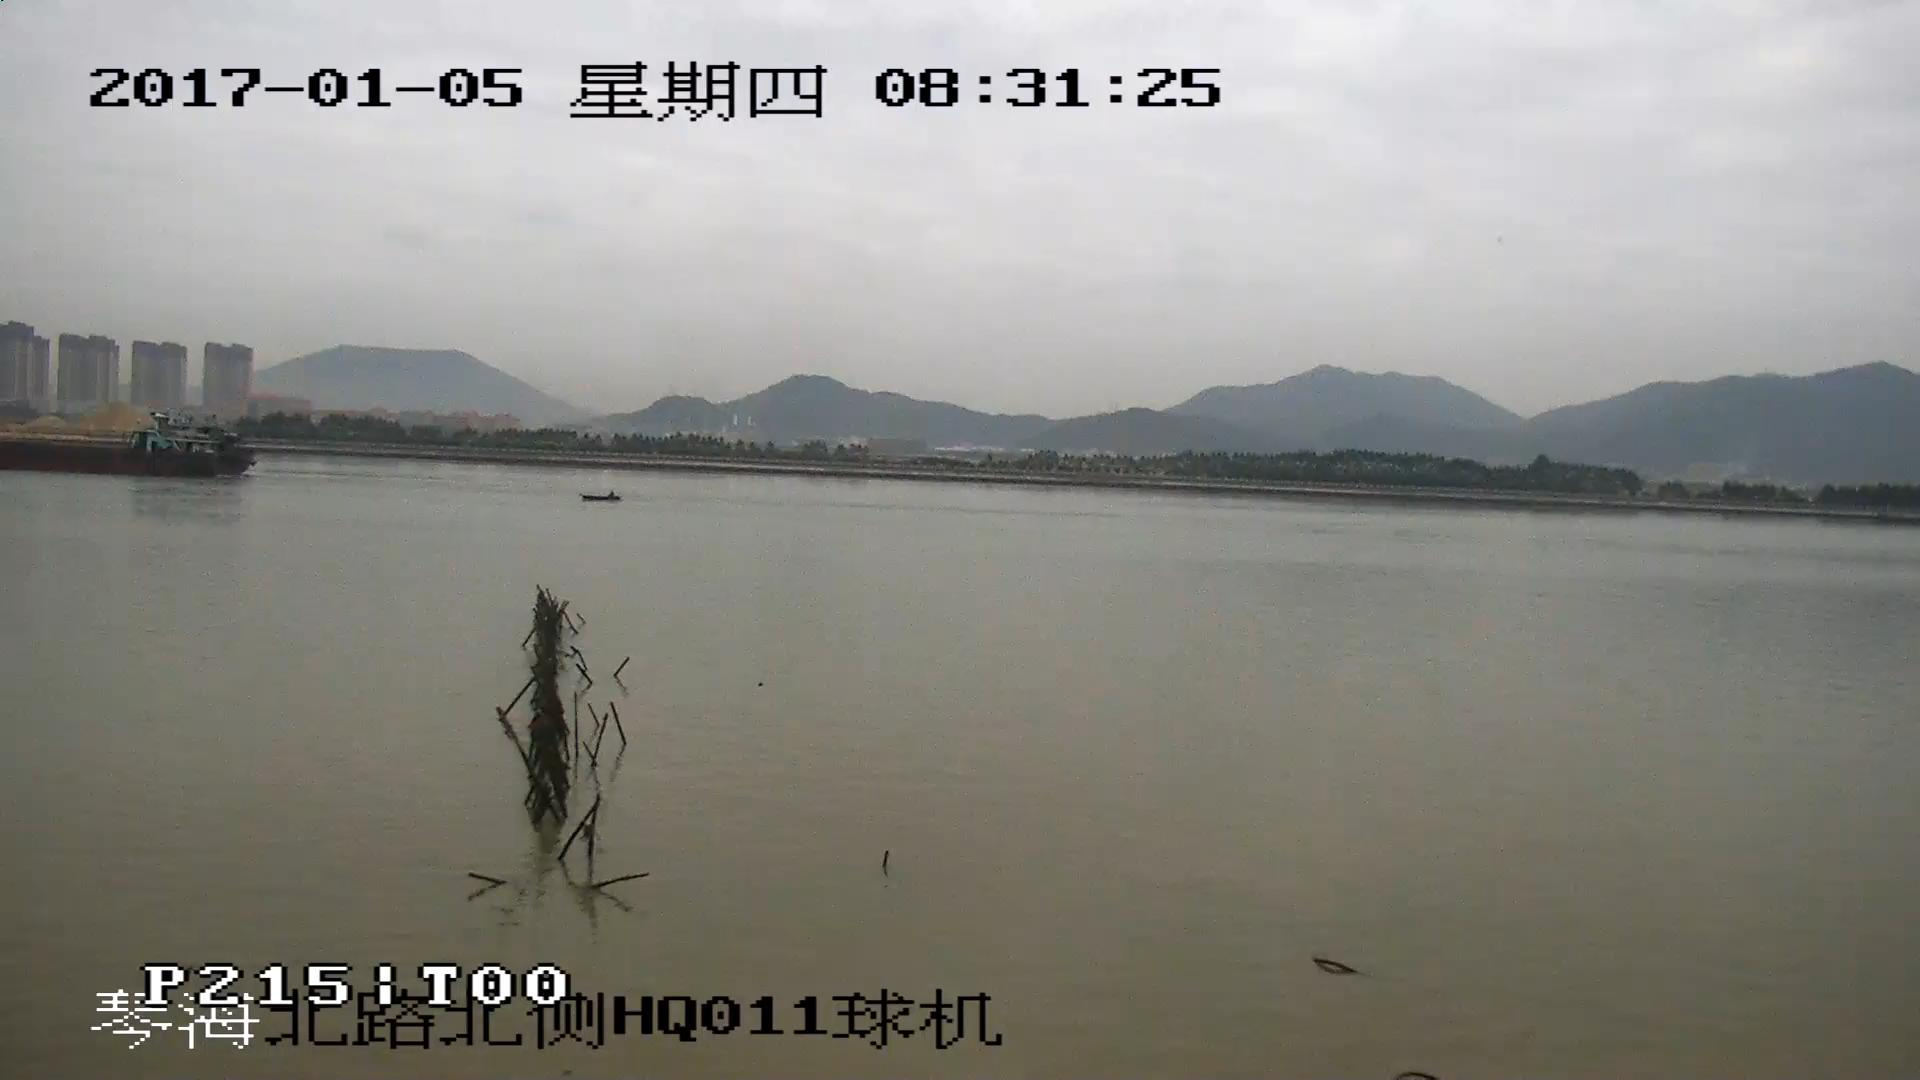bulk cargo carrier: (1, 413, 260, 474)
fishing boat: (581, 489, 619, 505)
